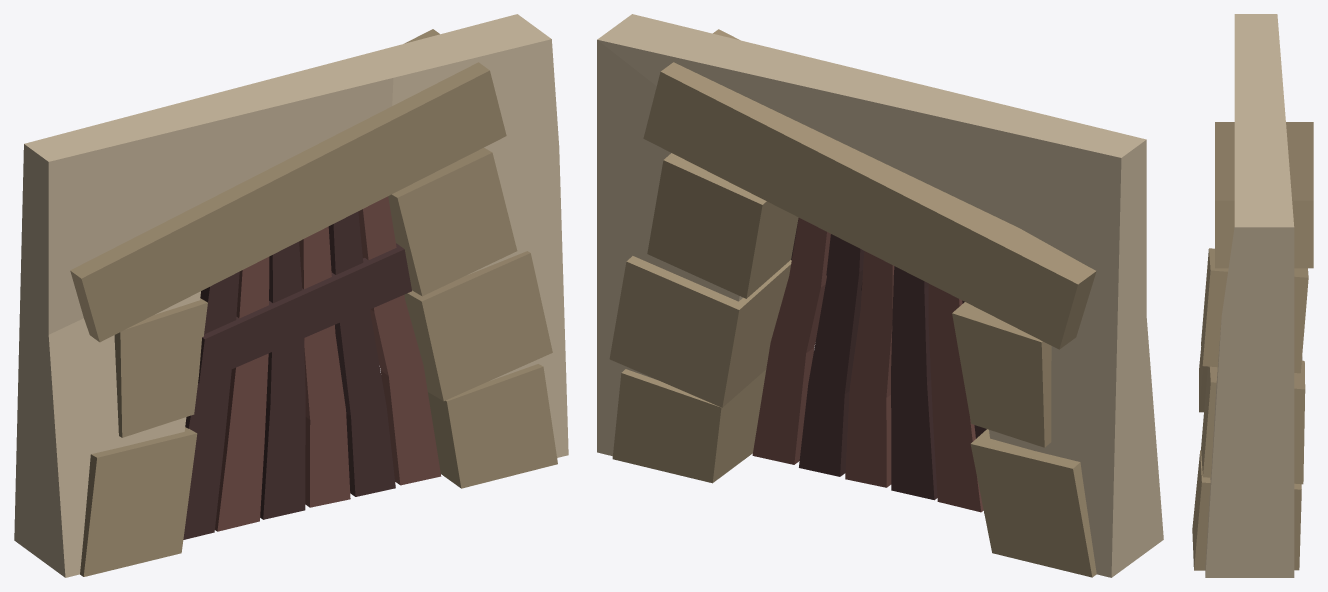
Rendered from LightSandStoneWallSmallCrookedDoorway2.fbx.
3 renders of one model, left to right at view 1: azimuth 30°, elevation 25°; view 2: azimuth 150°, elevation 25°; view 3: azimuth 270°, elevation 25°, orthographic. The views are drawn at different scales.
Parts seen in each view (by area): view 1: polySurface6, polySurface9, Door.002; view 2: polySurface6, polySurface9, Door.002; view 3: polySurface9, polySurface6.
Part boxes in pixels (x1,y1,x2,y2): polySurface6: (70, 29, 557, 576); polySurface9: (14, 14, 568, 577); Door.002: (183, 196, 441, 539); polySurface6: (609, 29, 1096, 577); polySurface9: (597, 14, 1163, 577); Door.002: (752, 218, 986, 512); polySurface9: (1205, 14, 1294, 577); polySurface6: (1192, 122, 1313, 570).
Size of the model in its own units: 600 by 460 by 144.
